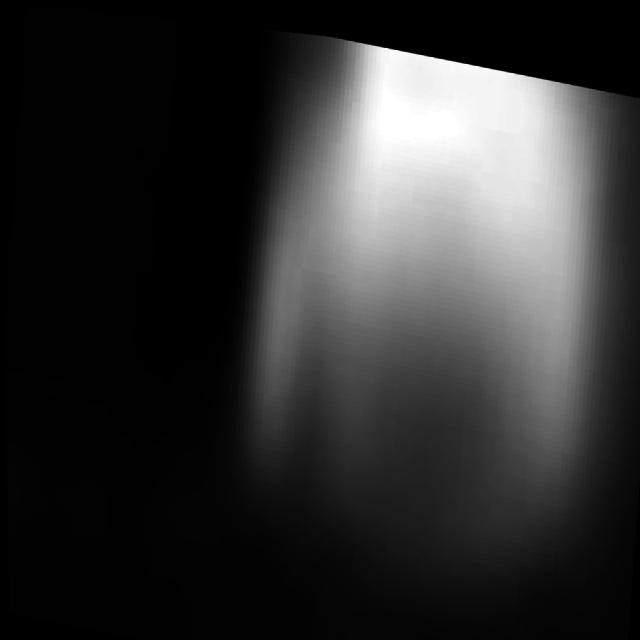person: (173, 16, 625, 624)
